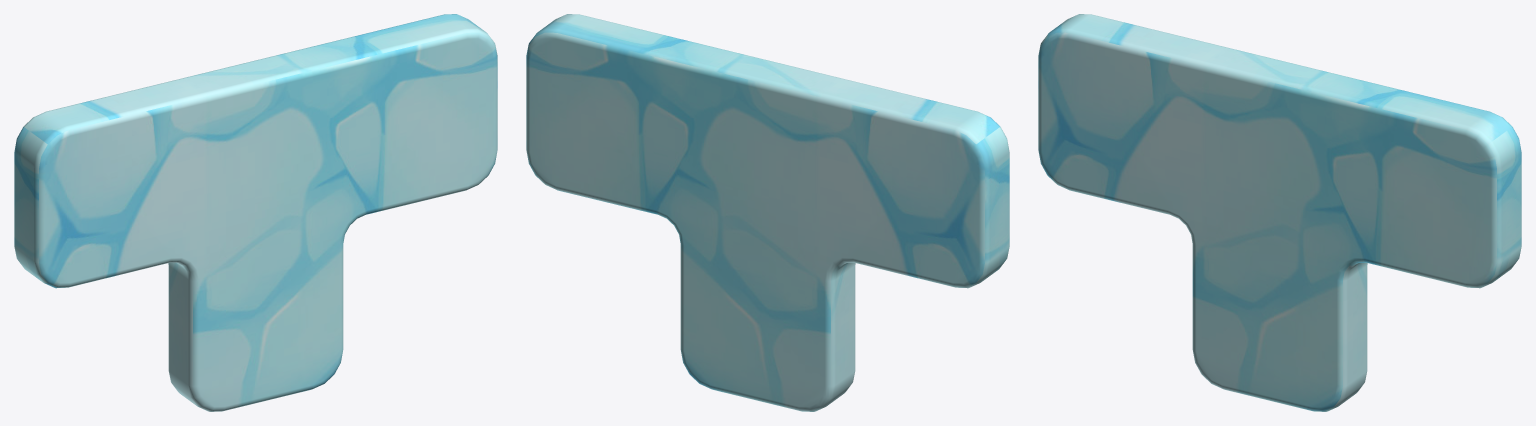
File: Ice_ShortTShape.fbx
The picture shows the model from 3 angles, left to right: view 1: azimuth 30°, elevation 25°; view 2: azimuth 150°, elevation 25°; view 3: azimuth 330°, elevation 25°; orthographic projection.
Visible parts, largest first — view 1: Ice_ShortTShape; view 2: Ice_ShortTShape; view 3: Ice_ShortTShape.
Boxes of the visible parts, x1,y1,x2,y2 form: Ice_ShortTShape: (14, 14, 497, 411); Ice_ShortTShape: (526, 14, 1009, 411); Ice_ShortTShape: (1038, 14, 1521, 411).
Size of the model in its own units: 3 by 2 by 0.3.
1 material, 1 textured.
